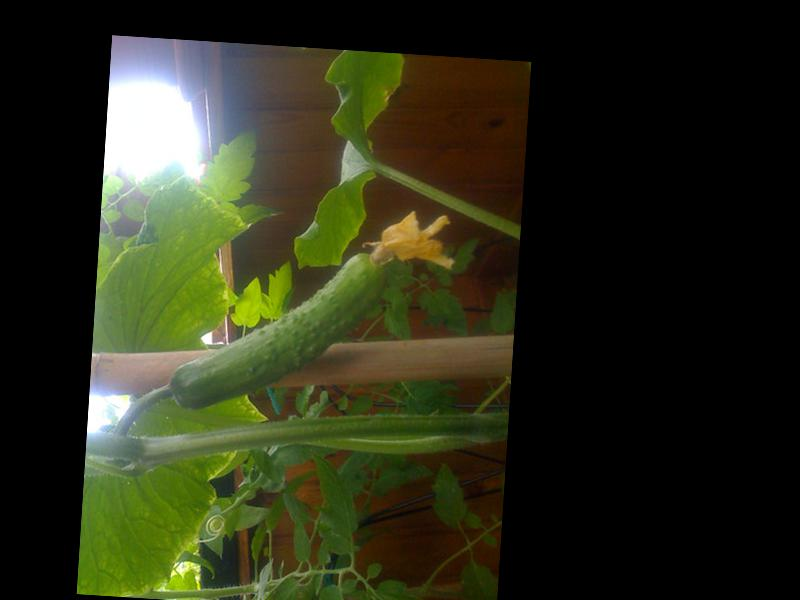Cucumber: (169, 194, 458, 424)
